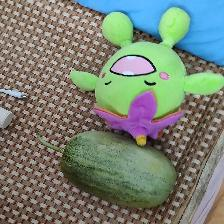gua: (62, 140, 169, 195)
